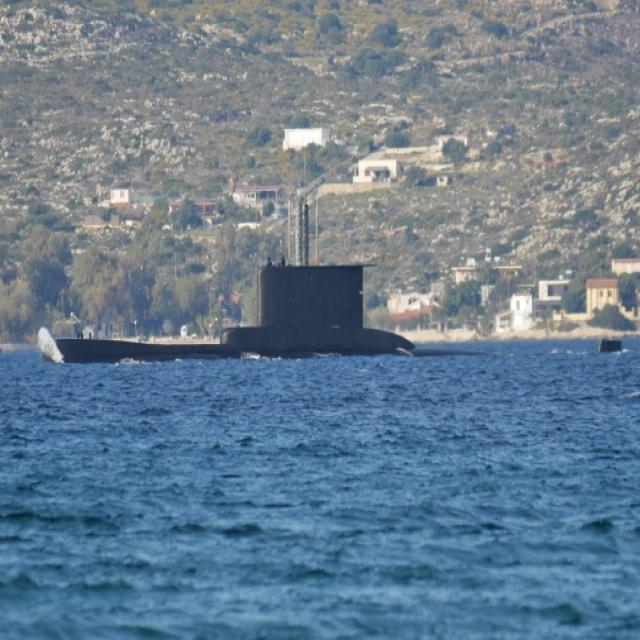submarine: (48, 250, 624, 362)
